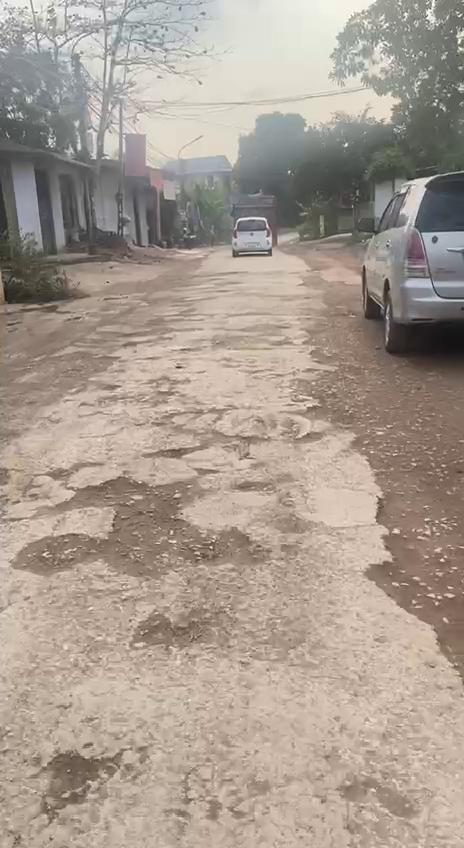pothole: (5, 455, 268, 585), (363, 486, 464, 671), (33, 736, 118, 813), (148, 404, 249, 460), (128, 604, 218, 661), (289, 376, 350, 442)
